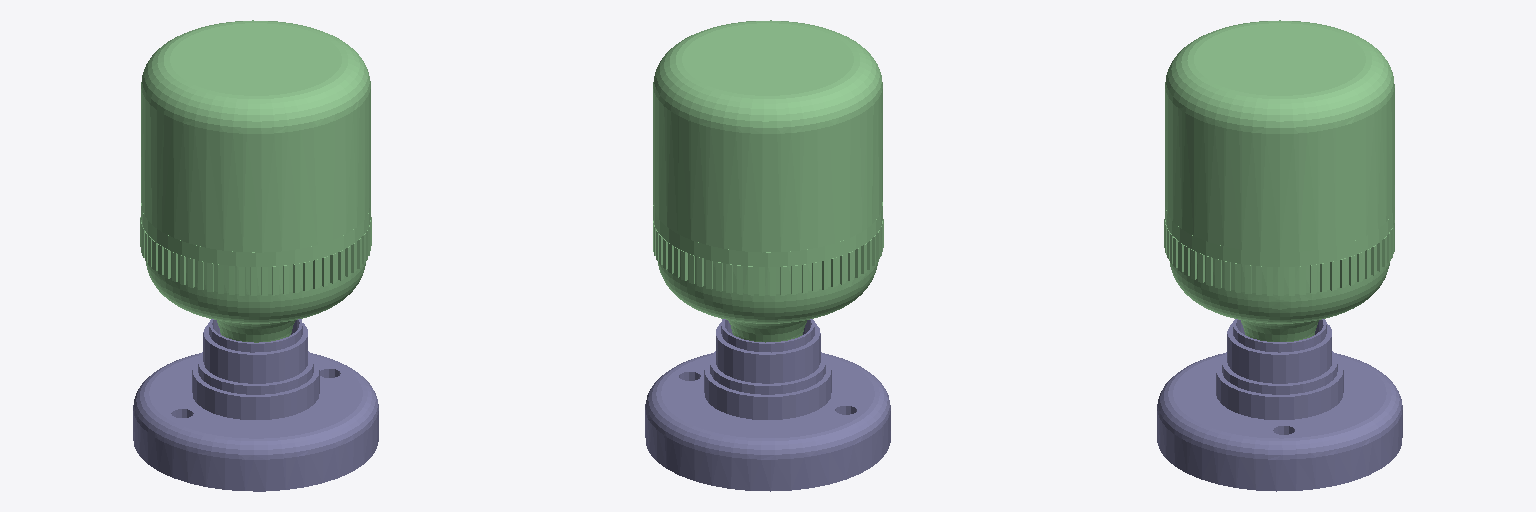
robot.urdf — bulb_0017:
<?xml version='1.0' encoding='utf-8'?>
<robot name="bulb_0017">
  <link name="world" />
  <link name="base_link">
    <inertial>
      <origin xyz="1.36300437292241E-07 -2.64667355771047E-06 -0.115755133426362" rpy="0 0 0" />
      <mass value="0.024047808430542" />
      <inertia ixx="1.03610287577463E-05" ixy="-5.64573950707045E-08" ixz="3.21089663713151E-11" iyy="1.14755254628479E-05" iyz="-6.23489945667255E-10" izz="1.81226052795215E-05" />
    </inertial>
    <visual>
      <origin xyz="0 0 0" rpy="0 0 0" />
      <geometry>
        <mesh filename="../meshes/base_link.STL" scale="1.0 1.0 1.0" />
      </geometry>
      <material name="base_link_green">
        <color rgba="0.55 0.55 0.7 1" />
      </material>
    </visual>
    <collision>
      <origin xyz="0 0 0" rpy="0 0 0" />
      <geometry>
        <mesh filename="../meshes/base_link.STL" scale="1.0 1.0 1.0" />
      </geometry>
    </collision>
  </link>
  <link name="link1">
    <inertial>
      <origin xyz="8.19321221595869E-07 -4.70760928143438E-09 -0.0420100833995174" rpy="0 0 0" />
      <mass value="0.327414314608498" />
      <inertia ixx="0.000153336212186564" ixy="3.78620807456064E-12" ixz="1.39495056236701E-09" iyy="0.00015333642288244" iyz="5.35541143504499E-10" izz="0.000193638666306917" />
    </inertial>
    <visual>
      <origin xyz="0 0 0.1" rpy="0 0 0" />
      <geometry>
        <mesh filename="../meshes/link1.STL" scale="1.0 1.0 1.0" />
      </geometry>
      <material name="link1_blue">
        <color rgba="0.6 0.8 0.6 1" />
      </material>
    </visual>
    <collision>
      <origin xyz="0 0 0.1" rpy="0 0 0" />
      <geometry>
        <mesh filename="../meshes/link1.STL" scale="1.0 1.0 1.0" />
      </geometry>
    </collision>
  </link>
  <link name="link1_rx" />
  <joint name="joint1_rx" type="revolute">
    <origin xyz="0 0 0" rpy="0 0 0" />
    <parent link="link1_rx" />
    <child link="link1_ry" />
    <axis xyz="1 0 0" />
    <limit lower="-1" upper="1" effort="1" velocity="1" />
  </joint>
  <joint name="joint1_ry" type="revolute">
    <origin xyz="0 0 0" rpy="0 0 0" />
    <parent link="link1_ry" />
    <child link="link1" />
    <axis xyz="0 1 0" />
    <limit lower="-1" upper="1" effort="1" velocity="1" />
  </joint>
  <link name="link1_ry" />
  <joint name="joint1" type="revolute">
    <origin xyz="0 0 -0.1" rpy="0 0 0" />
    <parent link="base_link" />
    <child link="link1_rx" />
    <axis xyz="0 0 -1" />
    <limit lower="-0.3" upper="6" effort="3" velocity="1" />
  </joint>
  <joint name="world_to_base" type="fixed">
    <origin xyz="0 0 0" rpy="0 0 0" />
    <parent link="world" />
    <child link="base_link" />
  </joint>
</robot>

--- Render facts (derived) ---
The picture shows the robot from 3 angles, left to right: view 1: azimuth 30°, elevation 25°; view 2: azimuth 150°, elevation 25°; view 3: azimuth 270°, elevation 25°; orthographic projection.
Robot: bulb_0017 — 5 links, 4 joints (3 revolute, 1 fixed); root link world; default pose: every joint at zero.
Links seen in each view (by area): view 1: link1, base_link; view 2: link1, base_link; view 3: link1, base_link.
Boxes of the visible links, <box> form: link1: <box>140,20,371,342</box>; base_link: <box>133,319,378,491</box>; link1: <box>653,20,883,342</box>; base_link: <box>645,319,890,491</box>; link1: <box>1164,20,1394,341</box>; base_link: <box>1157,319,1402,491</box>.
Size in the robot's own frame: 0.077 by 0.0769 by 0.1315 metres.
Meshes: 2 distinct files referenced, 2 mesh visuals loaded (2 binary STL).
